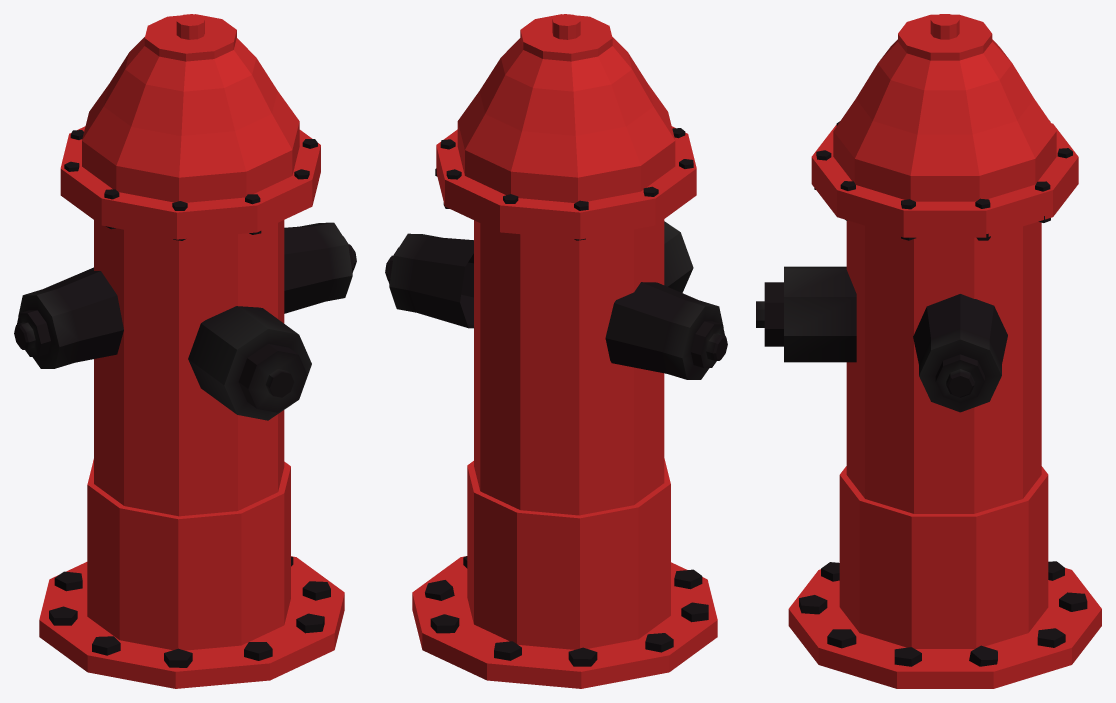
File: hidranteColorido.fbx
3 renders of one model, left to right at view 1: azimuth 30°, elevation 25°; view 2: azimuth 150°, elevation 25°; view 3: azimuth 270°, elevation 25°, orthographic.
Visible parts, largest first — view 1: Hydrant; view 2: Hydrant; view 3: Hydrant.
Boxes of the visible parts, left/top/right/bottom form: Hydrant: left=14, top=14, right=356, bottom=688; Hydrant: left=385, top=14, right=727, bottom=688; Hydrant: left=756, top=14, right=1101, bottom=688.
Size of the model in its own units: 47.2 by 81.97 by 42.44.
